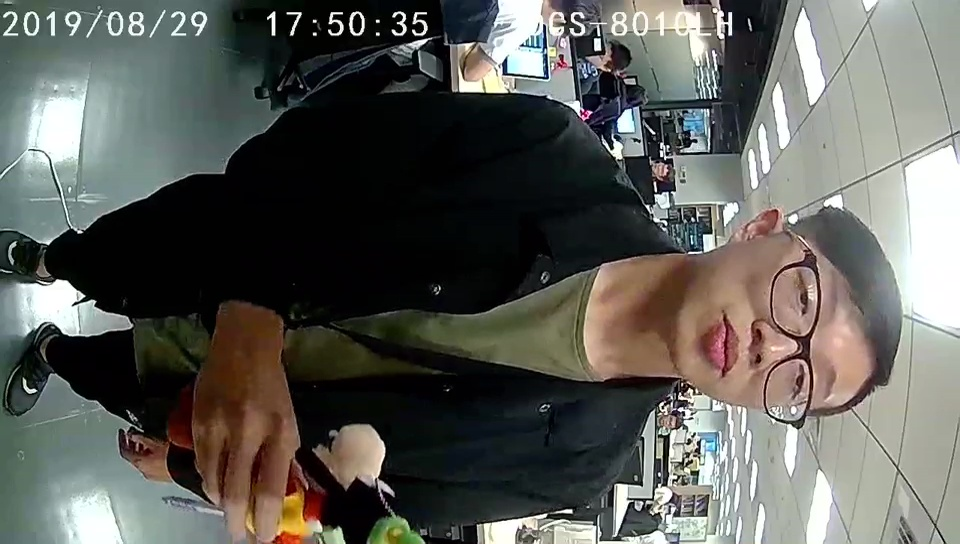goofy: (164, 393, 430, 544)
